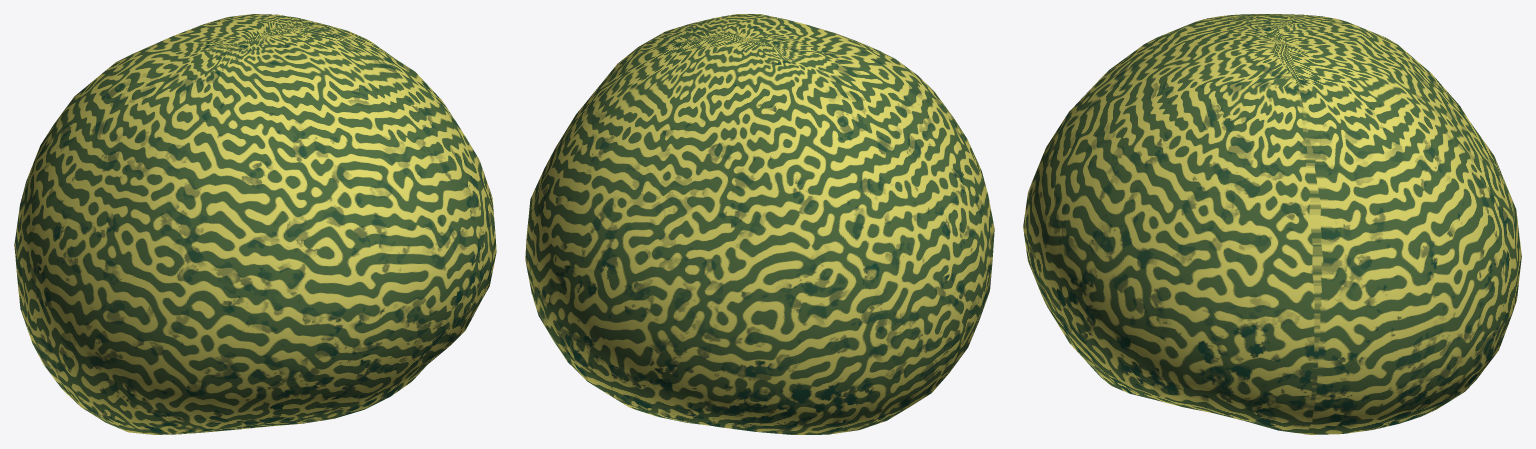
The model's file is BrainCoral01.fbx.
The picture shows the model from 3 angles, left to right: view 1: azimuth 30°, elevation 25°; view 2: azimuth 150°, elevation 25°; view 3: azimuth 270°, elevation 25°; orthographic projection. The views are drawn at different scales.
Visible parts, largest first — view 1: BrainCoral01; view 2: BrainCoral01; view 3: BrainCoral01.
Part boxes in pixels (box(x1,y1,x2,y2)): BrainCoral01: box(14, 14, 496, 434); BrainCoral01: box(525, 14, 994, 434); BrainCoral01: box(1023, 14, 1521, 434).
Bounding box in the file's own units: 2.2 × 1.79 × 2.2.
